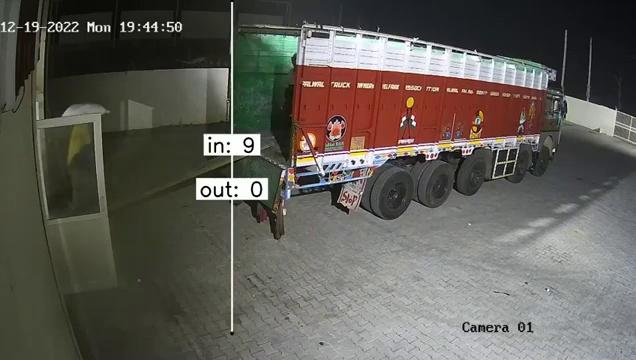karung: (60, 102, 112, 117)
